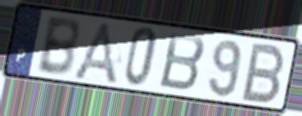0: (124, 26, 161, 90)
9: (206, 37, 244, 99)
A: (70, 20, 120, 87)
B: (157, 31, 208, 94), (238, 41, 288, 105), (34, 16, 82, 79)
